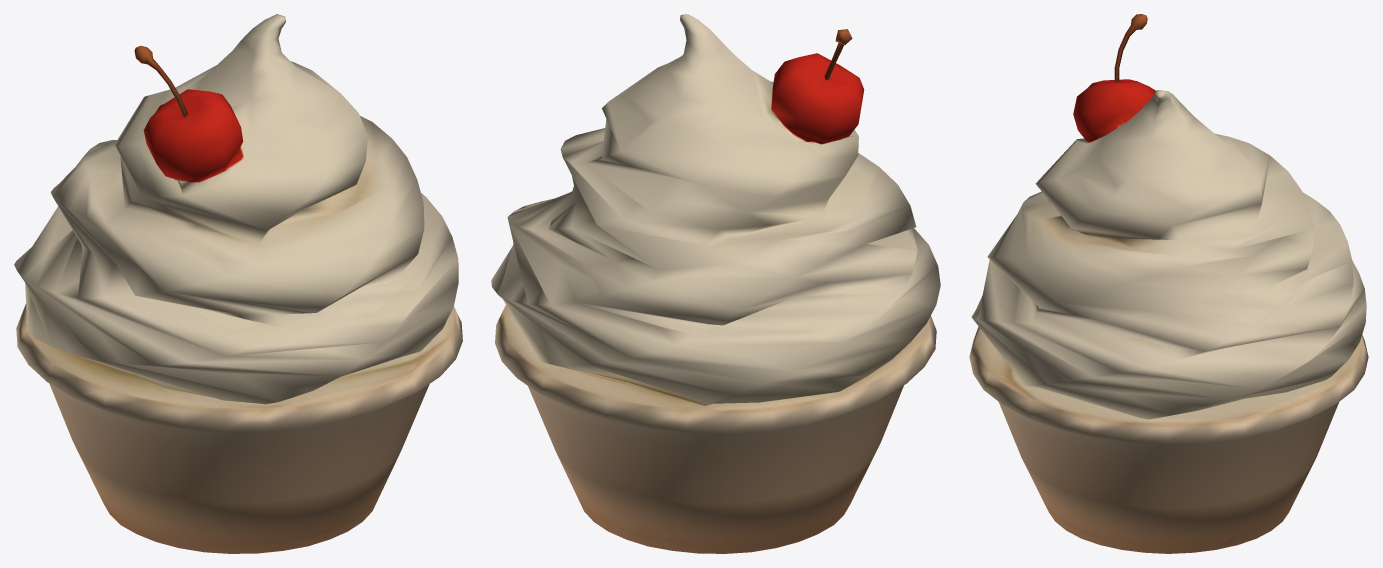
The model's file is Delicious Cherry Whip Swirl.glb.
3 renders of one model, left to right at view 1: azimuth 30°, elevation 25°; view 2: azimuth 150°, elevation 25°; view 3: azimuth 270°, elevation 25°, orthographic. The views are drawn at different scales.
Parts seen in each view (by area): view 1: pb_node; view 2: pb_node; view 3: pb_node.
Part boxes in pixels (left/top/right/bottom): pb_node: left=14, top=14, right=462, bottom=553; pb_node: left=491, top=14, right=940, bottom=553; pb_node: left=969, top=14, right=1368, bottom=553.
Bounding box in the file's own units: 0.8262 × 0.998 × 0.8262.
Materials: 1 (1 with a texture image).
